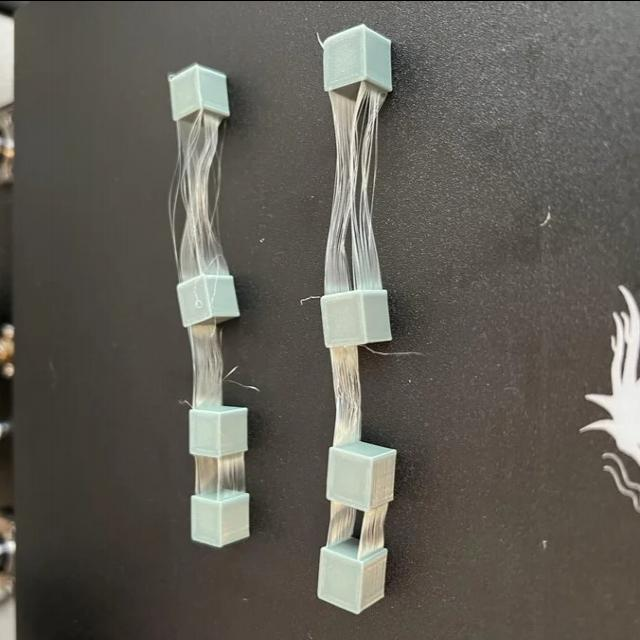stringing: (336, 100, 376, 278), (177, 136, 217, 268), (334, 342, 362, 440), (187, 322, 217, 399), (218, 456, 245, 494)
